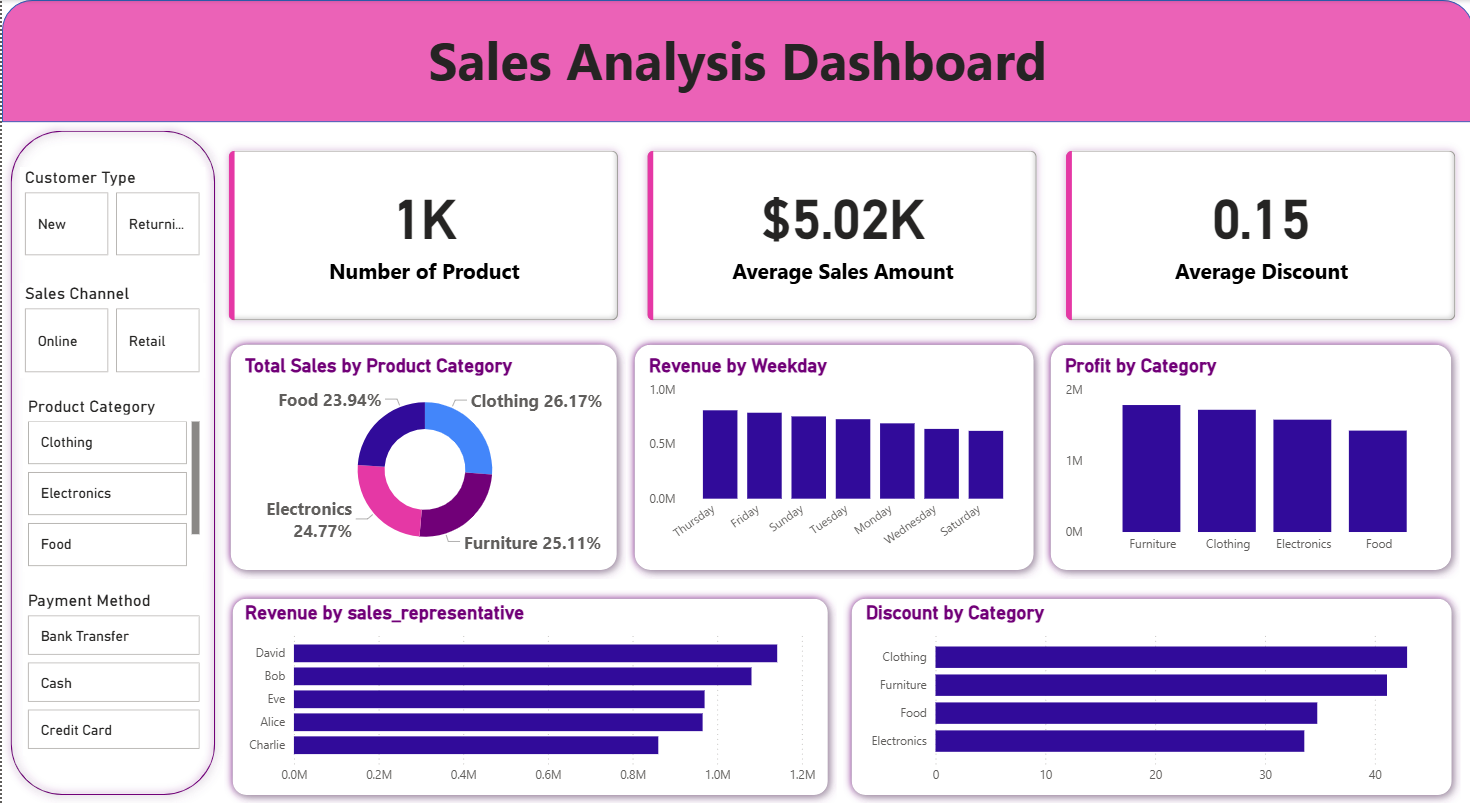

Layout of this report page (visuals, bound fields, positions):
{"tool":"powerbi","page":{"name":"Page 1","canvas":[1500,820],"ordinal":0},"visuals":[{"type":"cardVisual","fields":{"Data":["public sales.Number of Product","public sales.Average Sales Amount","public sales.Average Discount"]},"box":[214.8,137.8,1285.8,205],"z":0},{"type":"shape","box":[0,0,1500.6,124.6],"z":1000},{"type":"textbox","box":[0,18,1500.6,106.6],"z":2000},{"type":"shape","box":[224.7,342.8,411.6,247.6],"z":3000},{"type":"donutChart","title":"Total Sales by Product Category","fields":{"Category":["public sales.product_category"],"Y":["Sum(public sales.sales_amount)"]},"box":[242.7,360.8,377.2,211.6],"z":4000},{"type":"shape","box":[636.3,342.8,424.8,247.6],"z":5000},{"type":"shape","box":[1061.1,342.8,426.4,247.6],"z":6000},{"type":"clusteredColumnChart","title":"Revenue by Weekday","fields":{"Category":["public sales.weekday"],"Y":["Sum(public sales.sales_amount)"]},"box":[654.4,360.8,390.3,211.6],"z":7000},{"type":"clusteredColumnChart","title":"Profit by Category","fields":{"Category":["public sales.product_category"],"Y":["Sum(public sales.profit)"]},"box":[1079.1,360.8,392,211.6],"z":8000},{"type":"shape","box":[0,124.6,226.3,695.4],"z":9000},{"type":"advancedSlicerVisual","title":"Customer Type","fields":{"Values":["public sales.customer_type"]},"box":[18,170.6,188.6,95.1],"z":10000},{"type":"advancedSlicerVisual","title":"Sales Channel","fields":{"Values":["public sales.sales_channel"]},"box":[18,288.6,188.6,96.8],"z":11000},{"type":"advancedSlicerVisual","title":"Product Category","fields":{"Values":["public sales.product_category"]},"box":[21.3,403.4,185.3,180.4],"z":12000},{"type":"advancedSlicerVisual","title":"Payment Method","fields":{"Values":["public sales.payment_method"]},"box":[21.3,601.9,185.3,168.9],"z":13000},{"type":"clusteredBarChart","box":[247.6,613.4,528.1,195.2],"z":14000},{"type":"shape","box":[226.3,601.9,624.8,218.1],"z":15000},{"type":"clusteredBarChart","title":"Revenue by sales_representative","fields":{"Y":["Sum(public sales.sales_amount)"],"Category":["public sales.sales_rep"]},"box":[242.7,613.4,592,195.2],"z":16000},{"type":"shape","box":[857.7,601.9,629.8,218.1],"z":17000},{"type":"clusteredBarChart","title":"Discount by Category","fields":{"Category":["public sales.product_category"],"Y":["Sum(public sales.discount)"]},"box":[875.8,613.4,592,195.2],"z":18000}]}

Visuals, with their boxes in screenshot pixels (x1, y1, x2, y2), scaled from the page's 1500x820 canvas onto the 1470x803 screenshot:
cardVisual - public sales.Number of Product x public sales.Average Sales Amount: [211, 135, 1469, 336]
shape: [0, 0, 1469, 122]
textbox: [0, 18, 1469, 122]
shape: [220, 336, 624, 578]
"Total Sales by Product Category" donutChart: [238, 353, 608, 561]
shape: [624, 336, 1040, 578]
shape: [1040, 336, 1458, 578]
"Revenue by Weekday" clusteredColumnChart: [641, 353, 1024, 561]
"Profit by Category" clusteredColumnChart: [1058, 353, 1442, 561]
shape: [0, 122, 222, 802]
"Customer Type" advancedSlicerVisual: [18, 167, 202, 260]
"Sales Channel" advancedSlicerVisual: [18, 283, 202, 377]
"Product Category" advancedSlicerVisual: [21, 395, 202, 572]
"Payment Method" advancedSlicerVisual: [21, 589, 202, 755]
clusteredBarChart: [243, 601, 760, 792]
shape: [222, 589, 834, 802]
"Revenue by sales_representative" clusteredBarChart: [238, 601, 818, 792]
shape: [841, 589, 1458, 802]
"Discount by Category" clusteredBarChart: [858, 601, 1438, 792]
